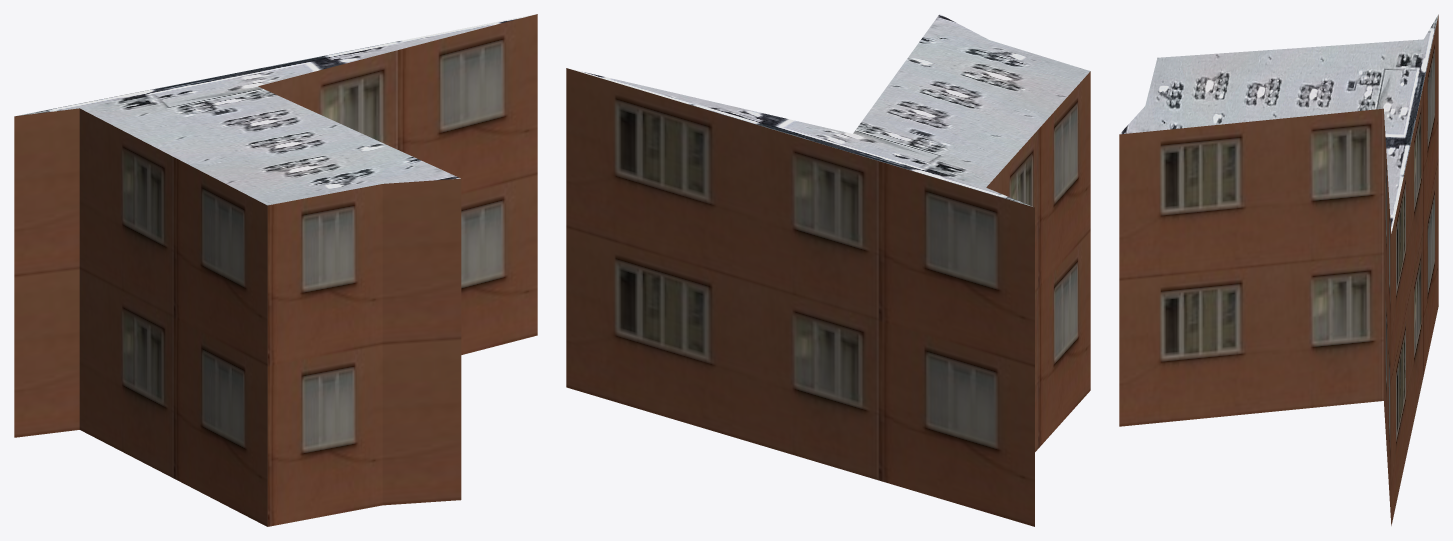
The model's file is ResTex__2651.fbx.
3 views of the same model, side by side, from view 1: azimuth 30°, elevation 25°; view 2: azimuth 150°, elevation 25°; view 3: azimuth 270°, elevation 25° (orthographic). The views are drawn at different scales.
Visible parts, largest first — view 1: CityEngineMaterial_20_m, CityEngineMaterial_8_m; view 2: CityEngineMaterial_20_m, CityEngineMaterial_8_m; view 3: CityEngineMaterial_20_m, CityEngineMaterial_8_m.
Boxes of the visible parts, x1,y1,x2,y2 form: CityEngineMaterial_20_m: (14,14,537,526); CityEngineMaterial_8_m: (15,14,535,205); CityEngineMaterial_20_m: (566,68,1090,526); CityEngineMaterial_8_m: (569,14,1090,206); CityEngineMaterial_20_m: (1119,15,1438,525); CityEngineMaterial_8_m: (1120,14,1438,233).
Size of the model in its own units: 9.72 by 6 by 5.94.
Materials: 2 (2 with a texture image).
